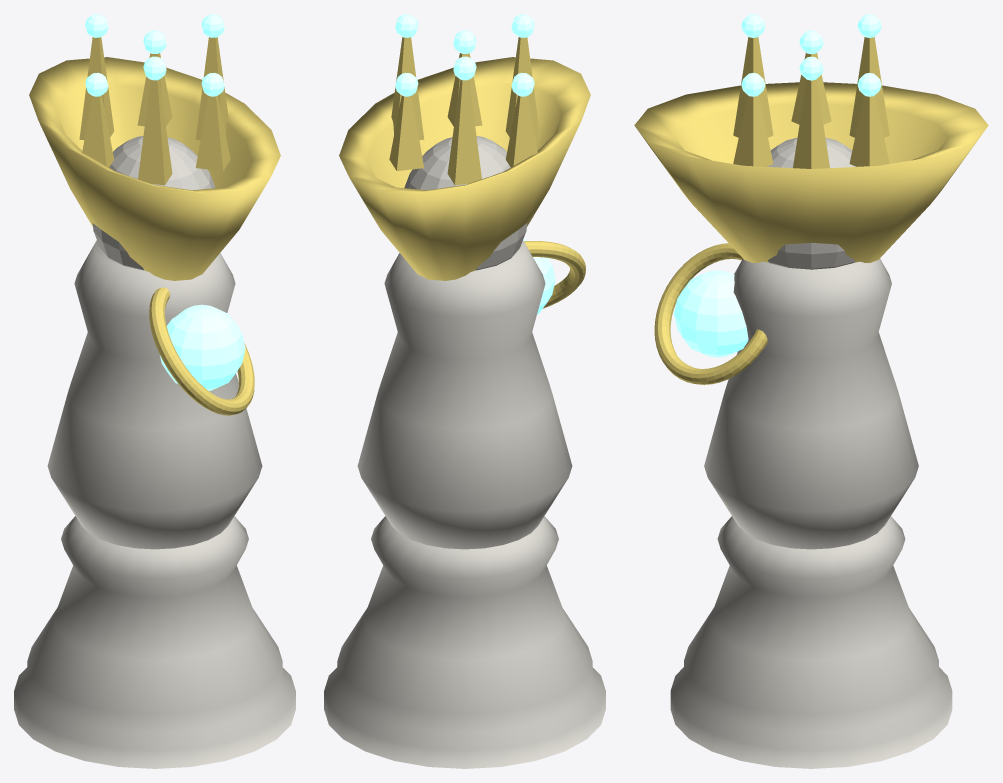
The model's file is queen_w.glb.
3 views of the same model, side by side, from view 1: azimuth 30°, elevation 25°; view 2: azimuth 150°, elevation 25°; view 3: azimuth 270°, elevation 25° (orthographic).
Visible parts, largest first — view 1: Queen_Base, Queen_Gown, Queen_Collar, Hình Cầu.065, Hình Xuyến.020, Hình Cầu.058, Hình Nón.120, Hình Nón.121, Hình Nón.119, Hình Nón.118, Hình Nón.116, Hình Nón.117; view 2: Queen_Base, Queen_Gown, Queen_Collar, Hình Cầu.058, Hình Nón.118, Hình Nón.117, Hình Xuyến.020, Hình Nón.119, Hình Nón.120, Hình Nón.116, Hình Nón.121, Hình Cầu.065; view 3: Queen_Base, Queen_Gown, Queen_Collar, Hình Cầu.065, Hình Xuyến.020, Hình Cầu.058, Hình Nón.116, Hình Nón.117, Hình Nón.121, Hình Nón.118, Hình Nón.120, Hình Nón.119.
Boxes of the visible parts, x1,y1,x2,y2 form: Queen_Base: (14, 516, 295, 768); Queen_Gown: (47, 240, 262, 549); Queen_Collar: (29, 57, 280, 280); Hình Cầu.065: (160, 304, 245, 390); Hình Xuyến.020: (149, 287, 254, 415); Hình Cầu.058: (92, 136, 215, 270); Hình Nón.120: (138, 79, 172, 185); Hình Nón.121: (195, 95, 230, 170); Hình Nón.119: (82, 95, 114, 167); Hình Nón.118: (79, 37, 114, 140); Hình Nón.116: (195, 37, 228, 140); Hình Nón.117: (137, 53, 172, 126); Queen_Base: (324, 516, 605, 768); Queen_Gown: (357, 240, 572, 549); Queen_Collar: (339, 57, 590, 280); Hình Cầu.058: (404, 136, 527, 270); Hình Nón.118: (447, 79, 481, 185); Hình Nón.117: (389, 95, 424, 170); Hình Xuyến.020: (524, 241, 585, 308); Hình Nón.119: (505, 95, 537, 167); Hình Nón.120: (505, 37, 540, 140); Hình Nón.116: (391, 37, 424, 140); Hình Nón.121: (447, 53, 482, 126); Hình Cầu.065: (523, 238, 555, 314); Queen_Base: (670, 516, 952, 768); Queen_Gown: (704, 259, 918, 549); Queen_Collar: (634, 82, 988, 262); Hình Cầu.065: (674, 270, 748, 357); Hình Xuyến.020: (654, 243, 767, 384); Hình Cầu.058: (767, 137, 855, 269); Hình Nón.116: (793, 79, 829, 168); Hình Nón.117: (849, 95, 889, 166); Hình Nón.121: (733, 95, 773, 166); Hình Nón.118: (849, 37, 889, 137); Hình Nón.120: (733, 37, 773, 137); Hình Nón.119: (791, 53, 831, 124).
Size of the model in its own units: 0.42 by 1.12 by 0.528.
